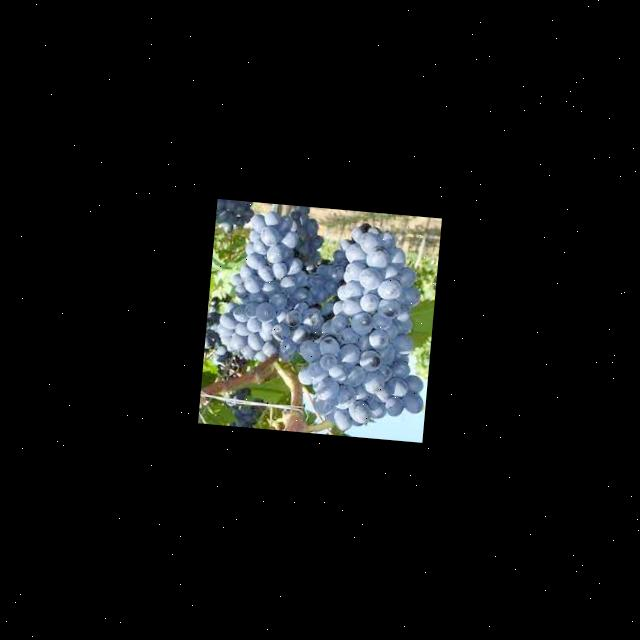grape: (198, 199, 440, 439)
